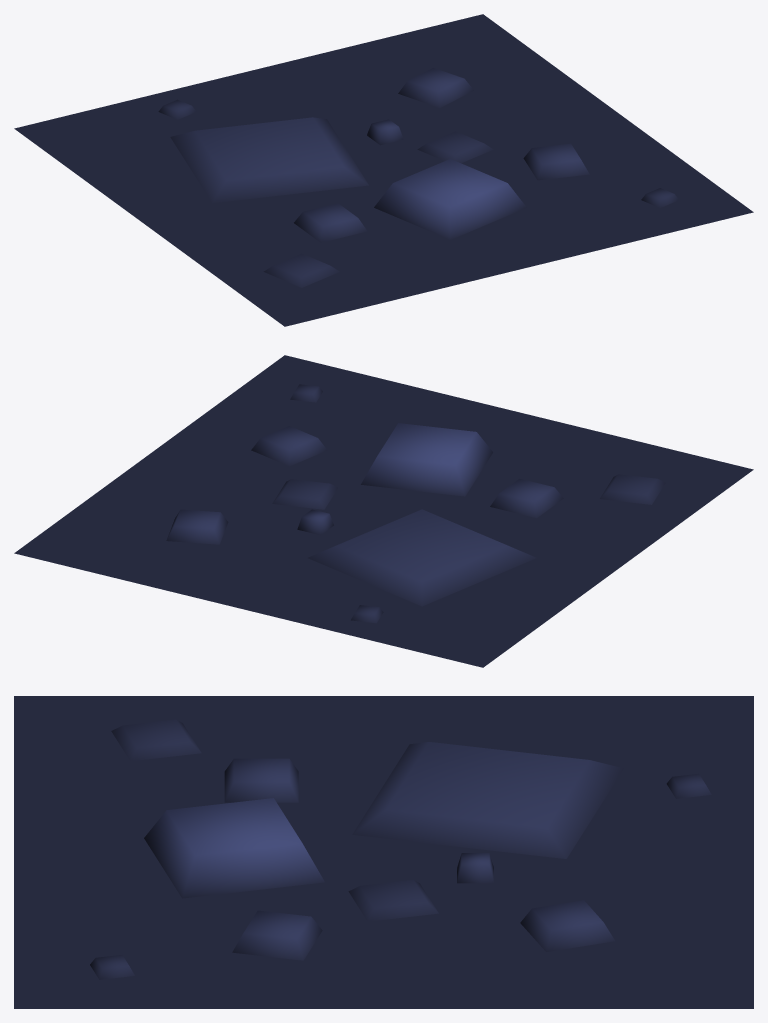
The model's file is floor-detail.fbx.
3 views of the same model, one above another, from view 1: azimuth 30°, elevation 25°; view 2: azimuth 150°, elevation 25°; view 3: azimuth 270°, elevation 25° (orthographic). The views are drawn at different scales.
Visible parts, largest first — view 1: floor-detail; view 2: floor-detail; view 3: floor-detail.
Part boxes in pixels (x1,y1,x2,y2): floor-detail: (14,14,753,326); floor-detail: (14,355,753,667); floor-detail: (14,696,753,1008).
Bounding box in the file's own units: 10 × 0.5 × 10.
